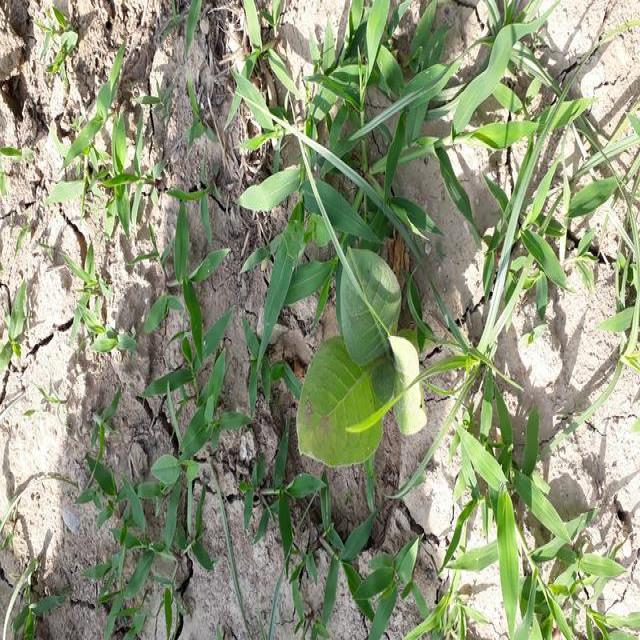crop: (299, 255, 423, 459)
